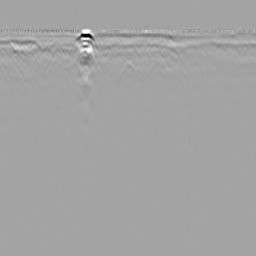cavity: (118, 57, 140, 87)
